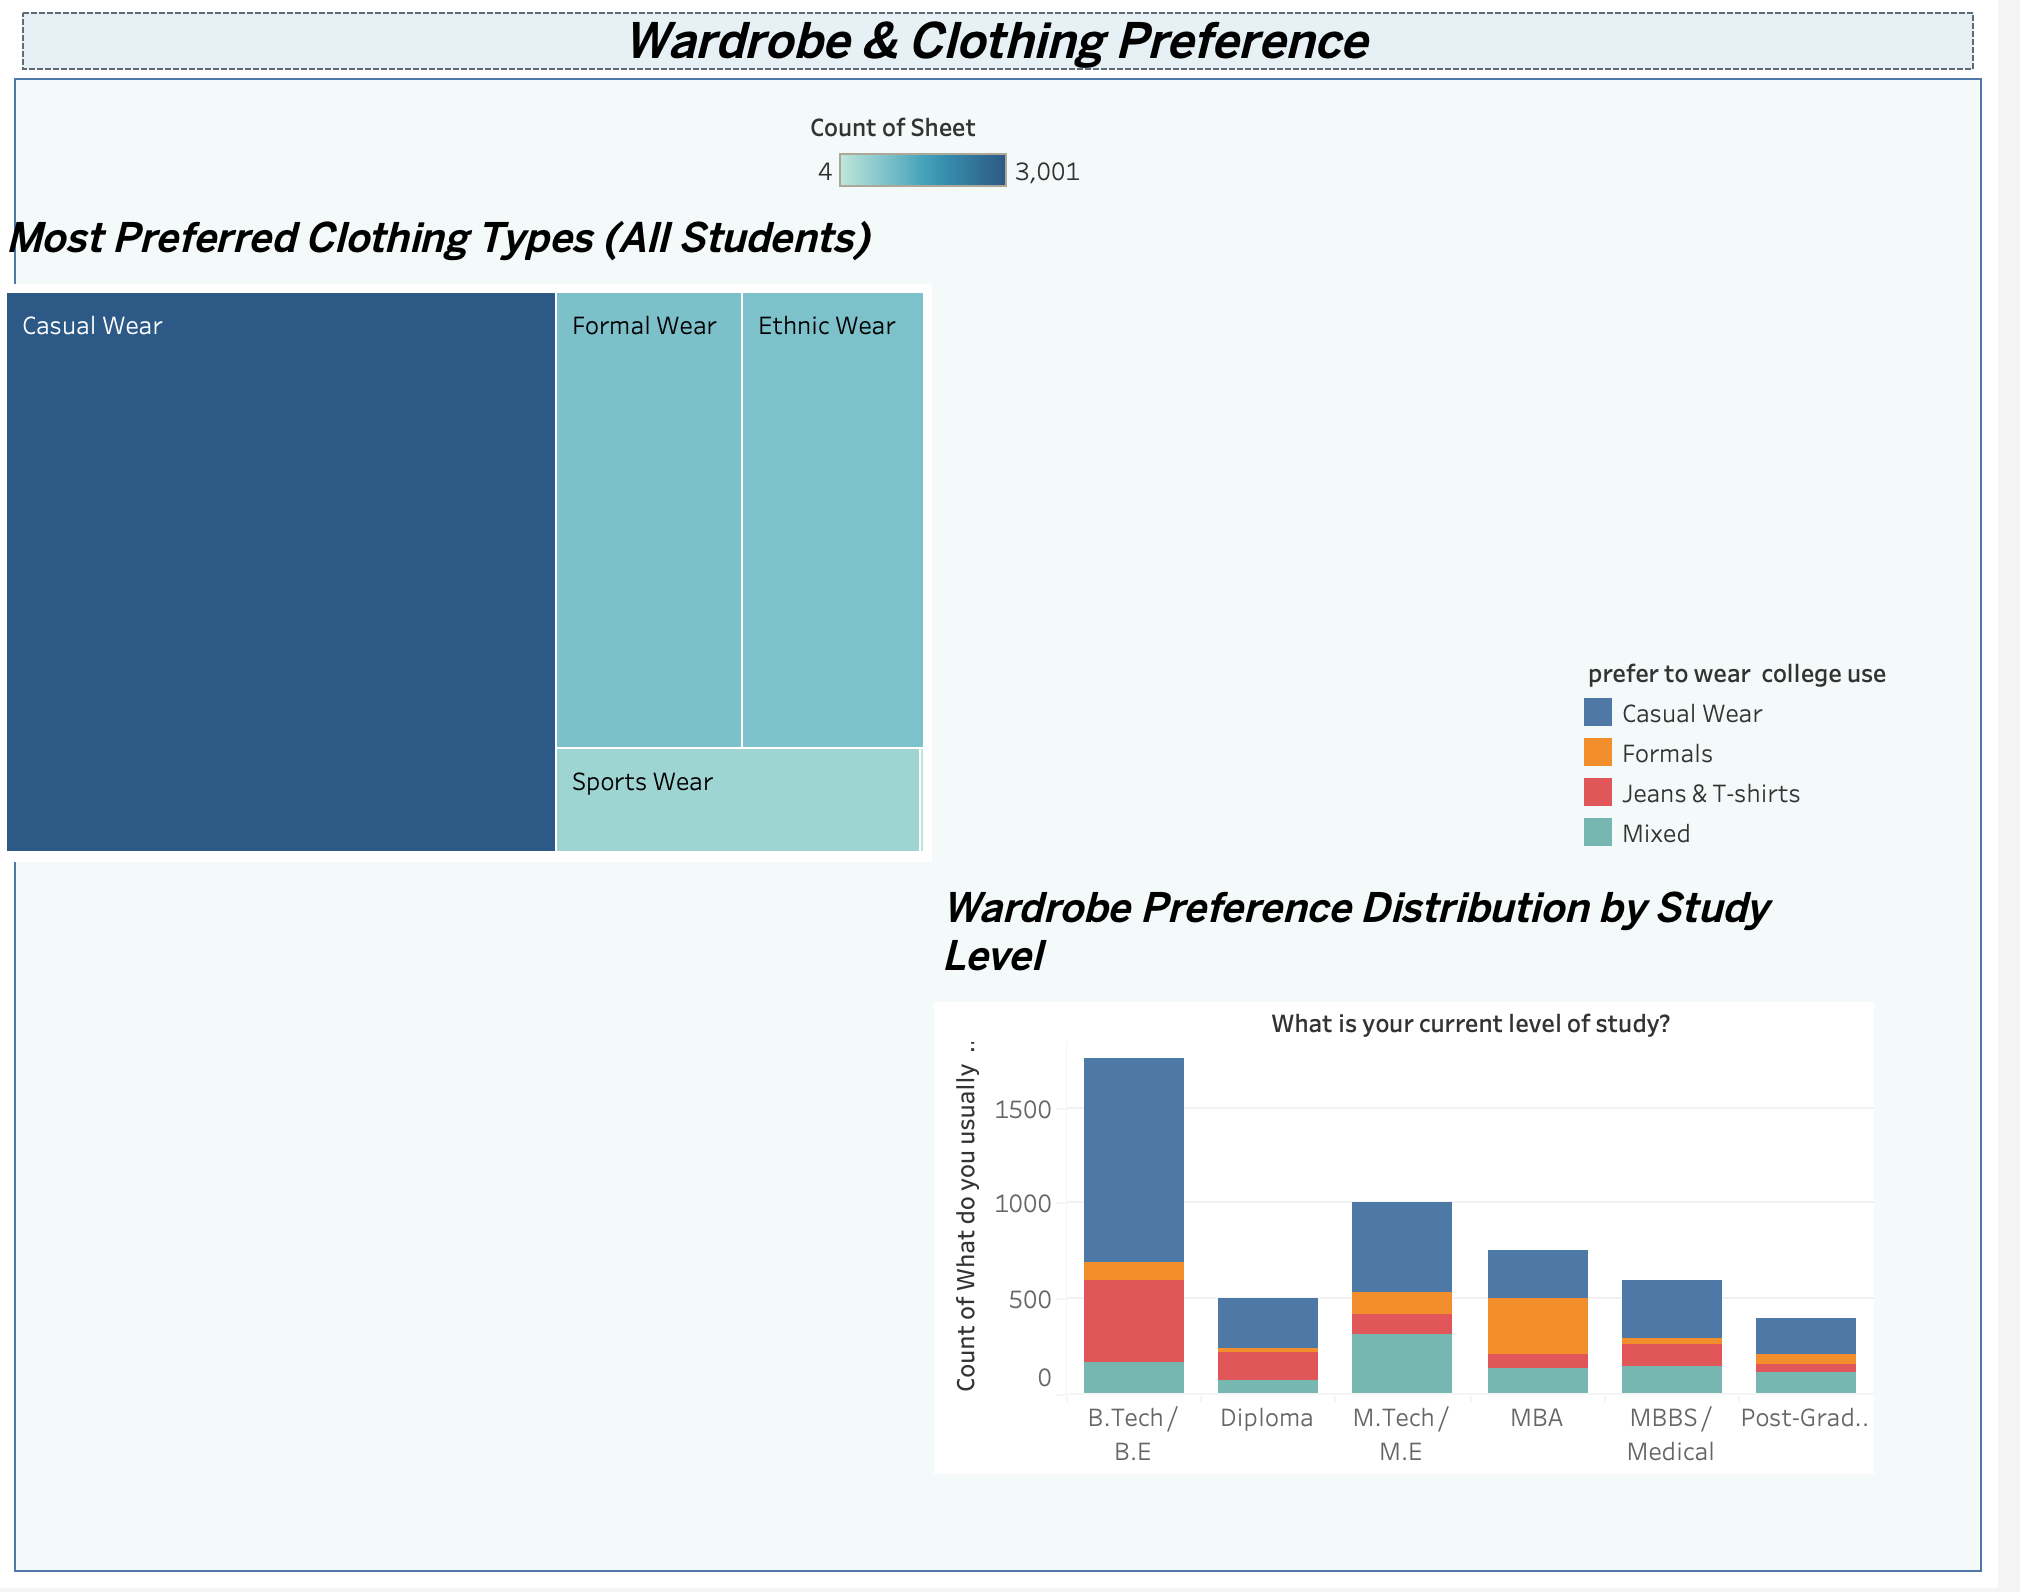

The page's visual inventory and layout, read from the dashboard file:
{"tool":"tableau","page":{"name":" Wardrobe & Clothing Preference","canvas":[1000,800],"ordinal":0},"visuals":[{"type":"title","box":[8,8,984,37]},{"type":"legend","title":"Clothing Type Preference (Treemap)","param":"[federated.1f0ar921e5crdw19n65z90w59u7y].[__tableau_internal_object_id__].[cnt:S","box":[406,61,140,76]},{"type":"worksheet","title":"Clothing Type Preference (Treemap)","mark":"Automatic","box":[0,109,467,367]},{"type":"worksheet","title":"Clothing Type by Study Level (Stacked Bar)","mark":"Automatic","rows":["What do you usually  prefer  to wear for college use?"],"cols":["What is your current level of study?"],"box":[468,444,470,299]}]}

Visuals, with their boxes in screenshot pixels (x1, y1, x2, y2), scaled from the page's 1000x800 canvas onto the 2020x1592 screenshot:
title: [left=16, top=16, right=2004, bottom=90]
"Clothing Type Preference (Treemap)" legend: [left=820, top=121, right=1103, bottom=273]
"Clothing Type Preference (Treemap)" worksheet: [left=0, top=217, right=943, bottom=947]
"Clothing Type by Study Level (Stacked Bar)" worksheet: [left=945, top=884, right=1895, bottom=1479]
